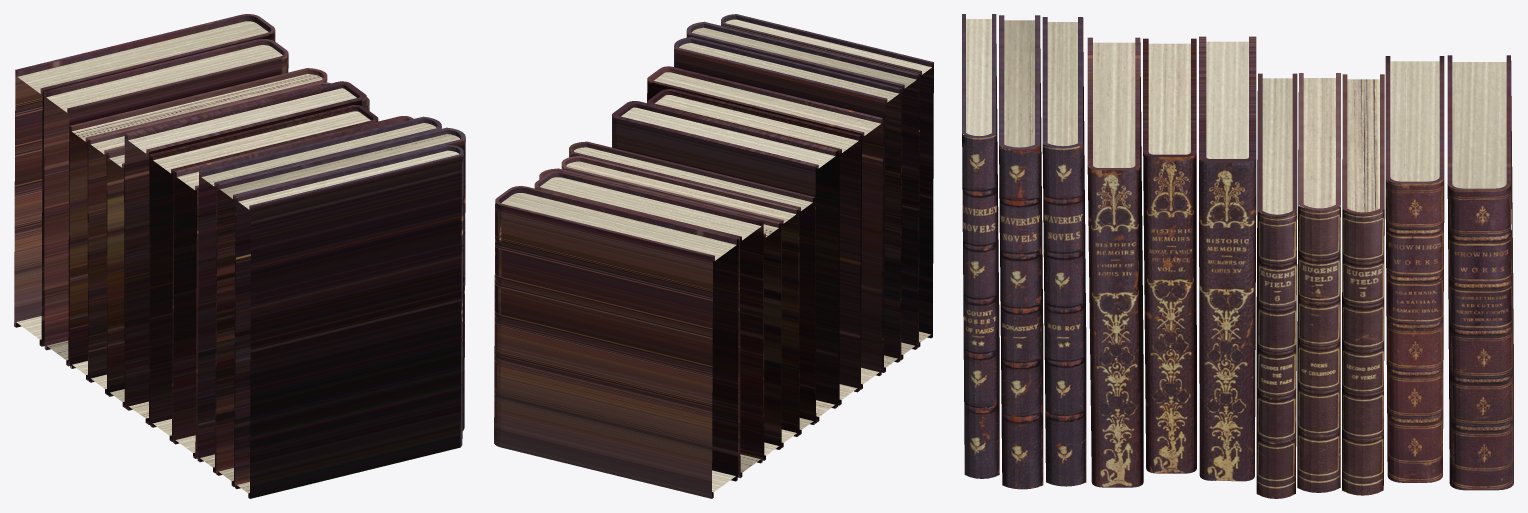
Rendered from BooksGroup08.fbx.
3 renders of one model, left to right at view 1: azimuth 30°, elevation 25°; view 2: azimuth 150°, elevation 25°; view 3: azimuth 270°, elevation 25°, orthographic. The views are drawn at different scales.
Parts seen in each view (by area): view 1: Book_pack_4; view 2: Book_pack_4; view 3: Book_pack_4.
Part boxes in pixels (x1,y1,x2,y2): Book_pack_4: (14,14,465,498); Book_pack_4: (494,14,933,498); Book_pack_4: (962,14,1513,498).
Bounding box in the file's own units: 23.07 × 25.68 × 37.57.
2 materials, 2 textured.
